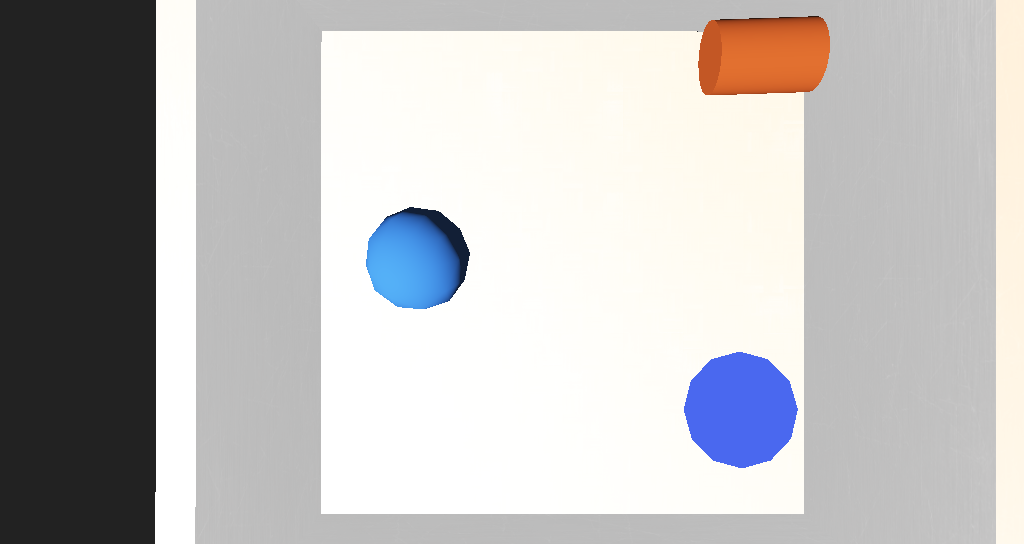cone: (593, 153, 660, 191)
cylinder: (566, 301, 633, 348)
sphere: (387, 239, 448, 286)
